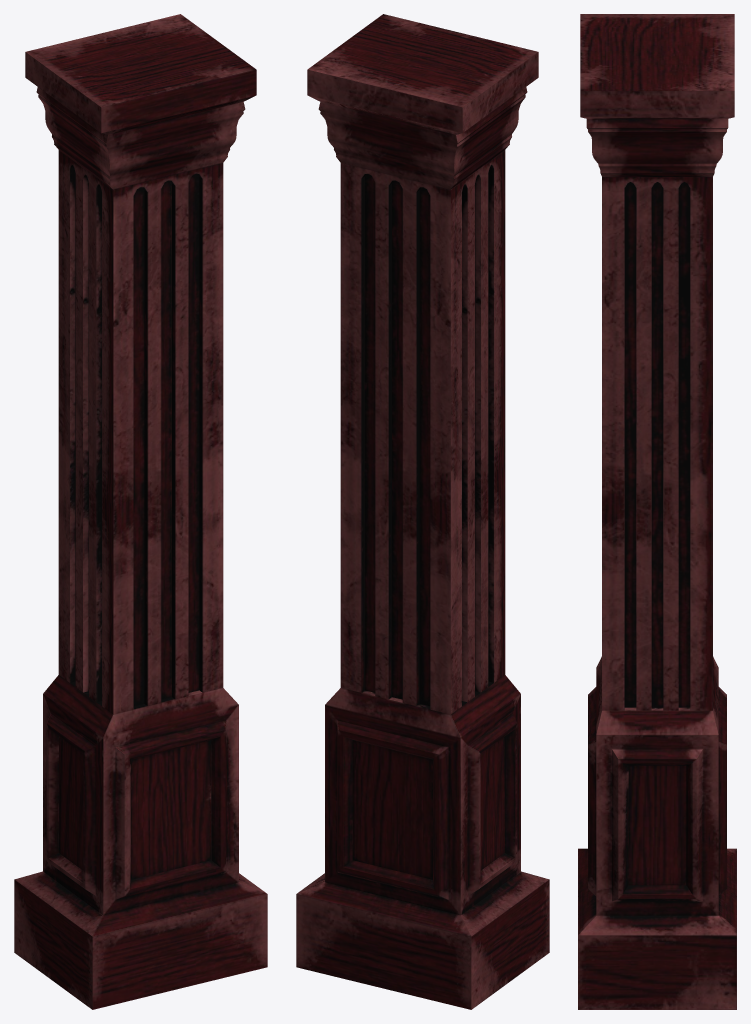
The model's file is column_02.glb.
The picture shows the model from 3 angles, left to right: view 1: azimuth 30°, elevation 25°; view 2: azimuth 150°, elevation 25°; view 3: azimuth 270°, elevation 25°; orthographic projection.
Parts seen in each view (by area): view 1: Plane.021; view 2: Plane.021; view 3: Plane.021.
Part boxes in pixels (<box>): Plane.021: <box>14,14,267,1009</box>; Plane.021: <box>296,14,549,1009</box>; Plane.021: <box>578,14,736,1009</box>.
Size of the model in its own units: 0.8446 by 4.15 by 0.6533.
1 material, 1 textured.
